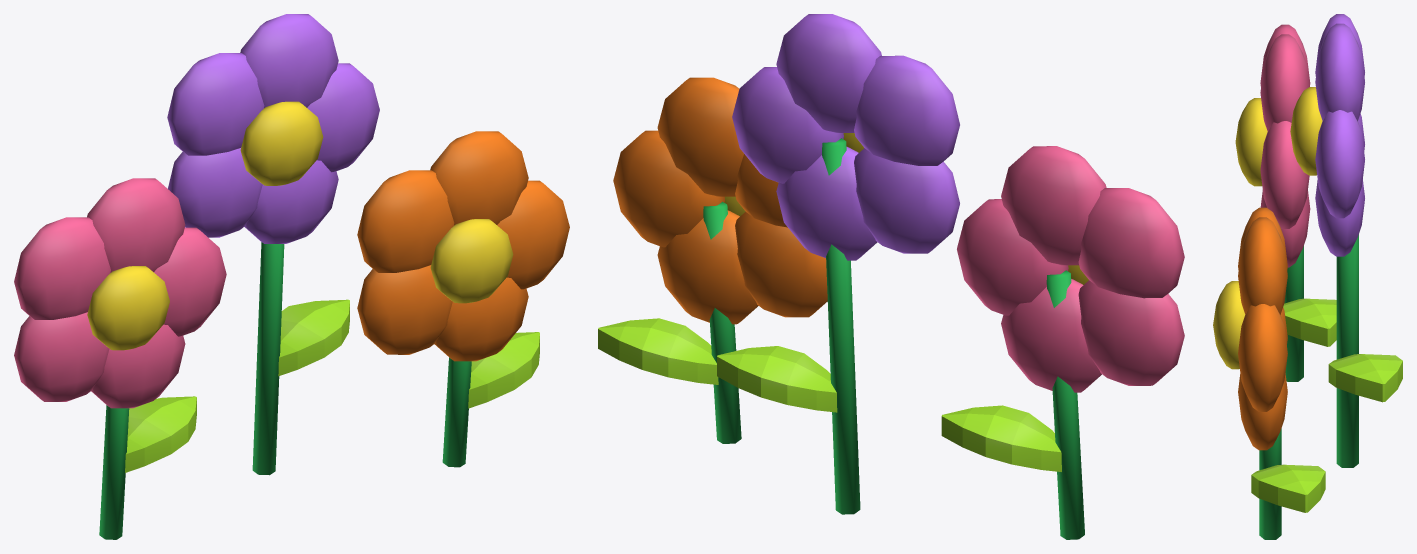
Rendered from FlowerPack.fbx.
3 views of the same model, side by side, from view 1: azimuth 30°, elevation 25°; view 2: azimuth 150°, elevation 25°; view 3: azimuth 270°, elevation 25° (orthographic). The views are drawn at different scales.
Parts seen in each view (by area): view 1: FlowerPack; view 2: FlowerPack; view 3: FlowerPack.
Boxes of the visible parts, box(x1,y1,x2,y2) form: FlowerPack: box(14, 14, 569, 539); FlowerPack: box(598, 14, 1184, 539); FlowerPack: box(1213, 14, 1402, 539).
Size of the model in its own units: 2.43 by 1.97 by 0.7614.
Materials: 1 (1 with a texture image).
